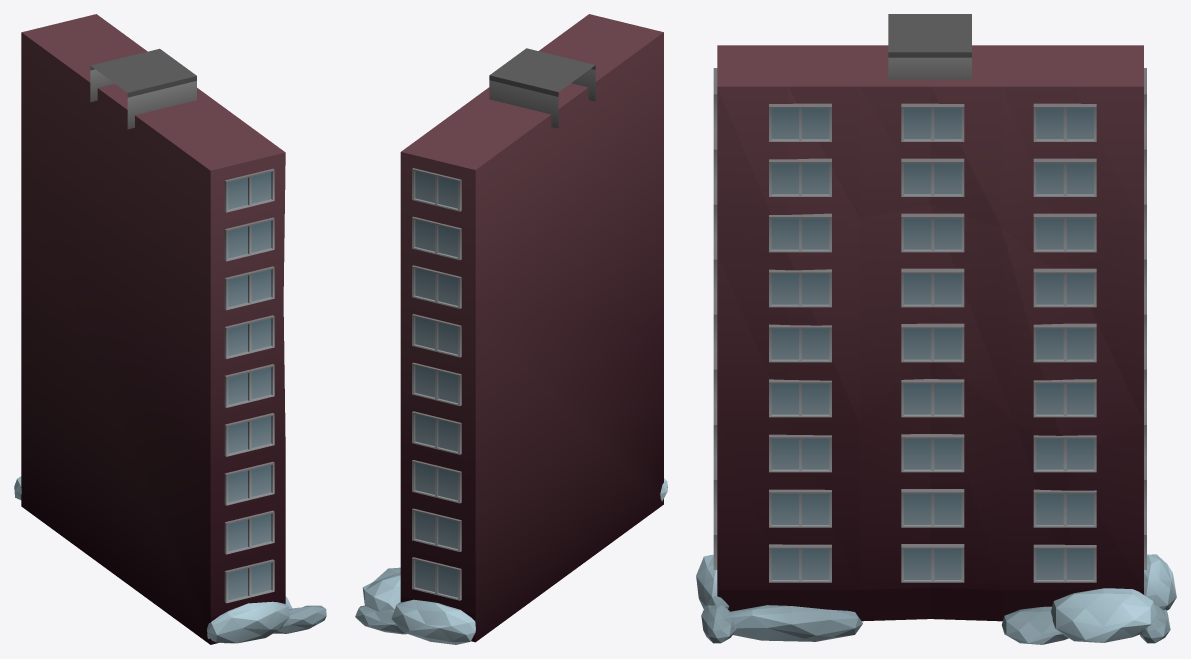
Rendered from SM_Panelki_red.fbx.
The picture shows the model from 3 angles, left to right: view 1: azimuth 30°, elevation 25°; view 2: azimuth 150°, elevation 25°; view 3: azimuth 270°, elevation 25°; orthographic projection. The views are drawn at different scales.
Parts seen in each view (by area): view 1: SM_Panelki_red; view 2: SM_Panelki_red; view 3: SM_Panelki_red.
Boxes of the visible parts, left/top/right/bottom form: SM_Panelki_red: left=14, top=14, right=326, bottom=644; SM_Panelki_red: left=355, top=14, right=667, bottom=644; SM_Panelki_red: left=696, top=14, right=1176, bottom=644.
Size of the model in its own units: 919 by 3280 by 2485.
